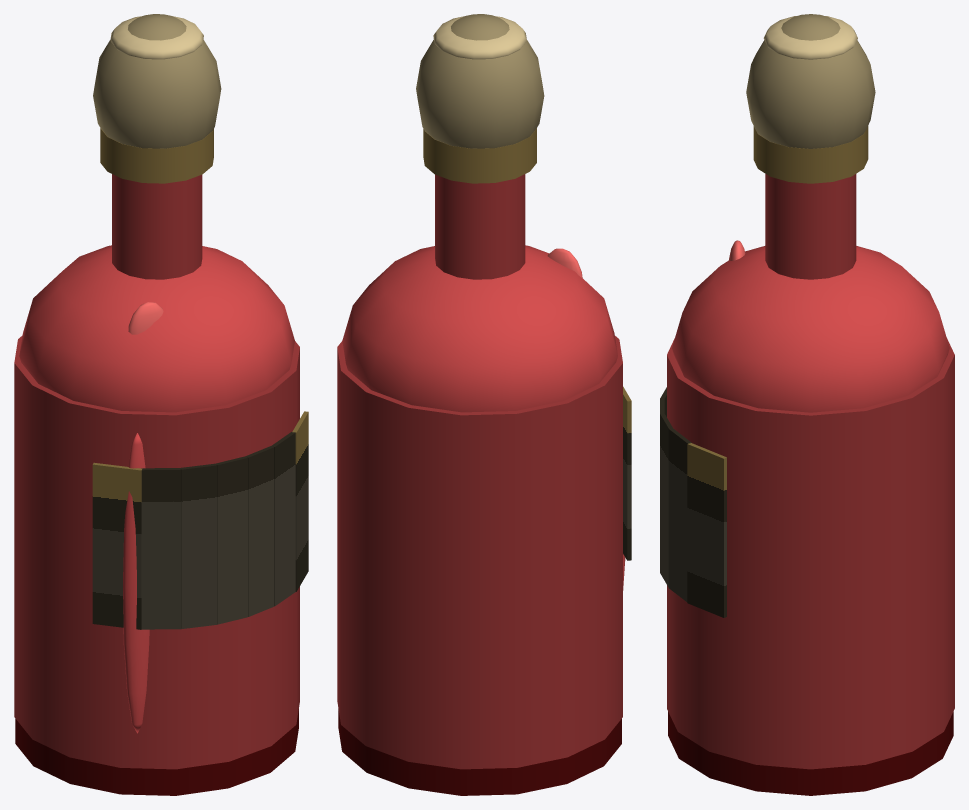
Rendered from CMU3DRMCCondimentHotsauceCholulaExtraCloud.glb.
3 renders of one model, left to right at view 1: azimuth 30°, elevation 25°; view 2: azimuth 150°, elevation 25°; view 3: azimuth 270°, elevation 25°, orthographic.
Visible parts, largest first — view 1: round red sauce bottle body, rounded red bottle shoulder, wood toned rounded cap, narrow pouring neck, solid red glass heel, original curved bottle label strip 2, original curved bottle label strip 1, original curved bottle label strip 3, original curved bottle label strip 4, original curved bottle label strip 5, left red glass reflection, wood cap lower collar (+4 smaller); view 2: round red sauce bottle body, rounded red bottle shoulder, wood toned rounded cap, narrow pouring neck, solid red glass heel, wood cap lower collar, light cap crown, original curved bottle label strip 1; view 3: round red sauce bottle body, rounded red bottle shoulder, wood toned rounded cap, narrow pouring neck, solid red glass heel, original curved bottle label strip 7, wood cap lower collar, original curved bottle label strip 6, light cap crown, original curved bottle label strip 5.
Part boxes in pixels (box(x1,y1,x2,y2)): round red sauce bottle body: box(14, 335, 299, 769); rounded red bottle shoulder: box(19, 245, 294, 412); wood toned rounded cap: box(93, 14, 221, 148); narrow pouring neck: box(112, 174, 202, 279); solid red glass heel: box(15, 709, 298, 795); original curved bottle label strip 2: box(141, 468, 181, 629); original curved bottle label strip 1: box(92, 462, 142, 629); original curved bottle label strip 3: box(181, 463, 216, 628); original curved bottle label strip 4: box(216, 456, 247, 624); original curved bottle label strip 5: box(246, 446, 274, 616); left red glass reflection: box(123, 433, 149, 733); wood cap lower collar: box(100, 128, 213, 183); round red sauce bottle body: box(337, 336, 622, 769); rounded red bottle shoulder: box(342, 245, 617, 412); wood toned rounded cap: box(416, 14, 544, 148); narrow pouring neck: box(435, 174, 525, 279); solid red glass heel: box(338, 709, 621, 795); wood cap lower collar: box(423, 128, 536, 183); light cap crown: box(433, 16, 526, 59); original curved bottle label strip 1: box(623, 386, 631, 560); round red sauce bottle body: box(667, 338, 954, 769); rounded red bottle shoulder: box(672, 246, 949, 412); wood toned rounded cap: box(746, 14, 875, 148); narrow pouring neck: box(765, 174, 856, 279); solid red glass heel: box(668, 711, 953, 795); original curved bottle label strip 7: box(687, 443, 726, 617); wood cap lower collar: box(753, 126, 868, 183); original curved bottle label strip 6: box(668, 428, 691, 601); light cap crown: box(763, 16, 857, 59); original curved bottle label strip 5: box(660, 413, 672, 586).
Bounding box in the file's own units: 0.256 × 0.703 × 0.262.
Materials: 14 (7 with a texture image).
